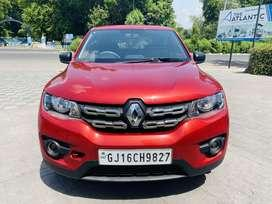GJ16CH9827: (97, 147, 171, 163)
